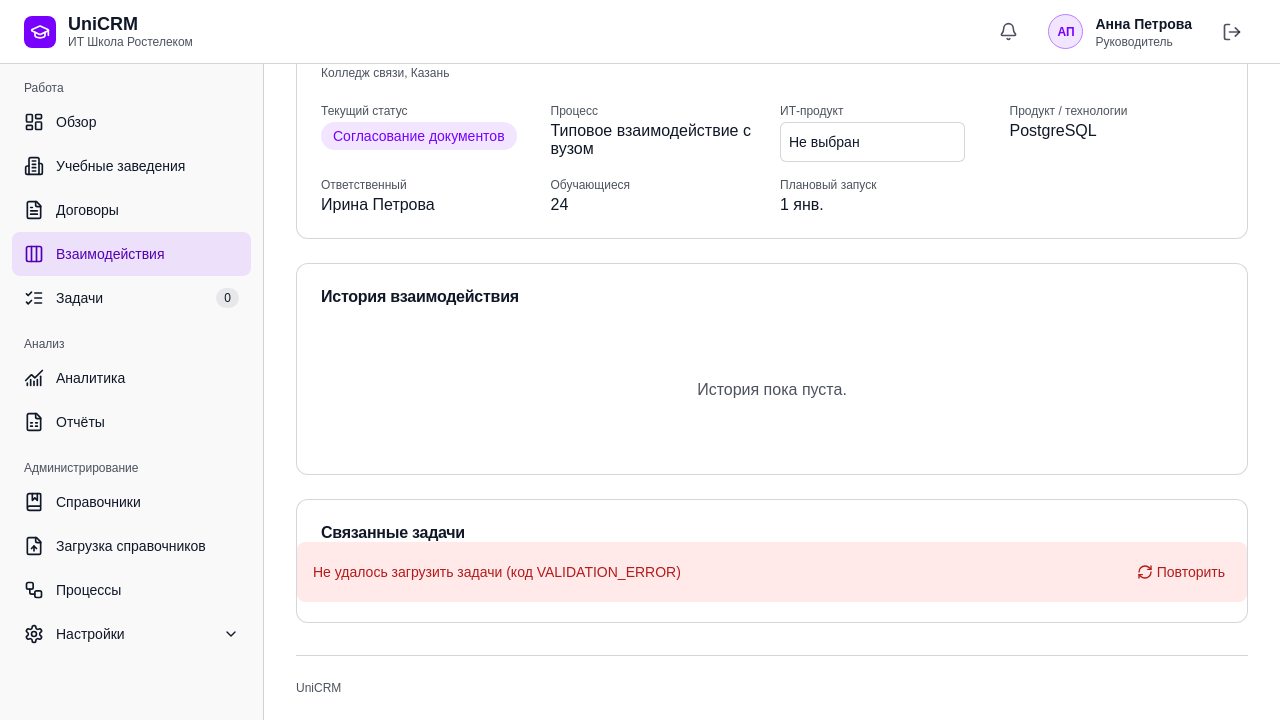
Test: interaction detail: task plan › shows an error with retry when the launch-tasks request fails, and a loading message while pending
(page scrolled)
Check: the message shows "Не удалось загрузить задачи", box [313,564,681,580]
Click the button "Повторить". click: (1181, 572)
box: [1131,554,1231,590]
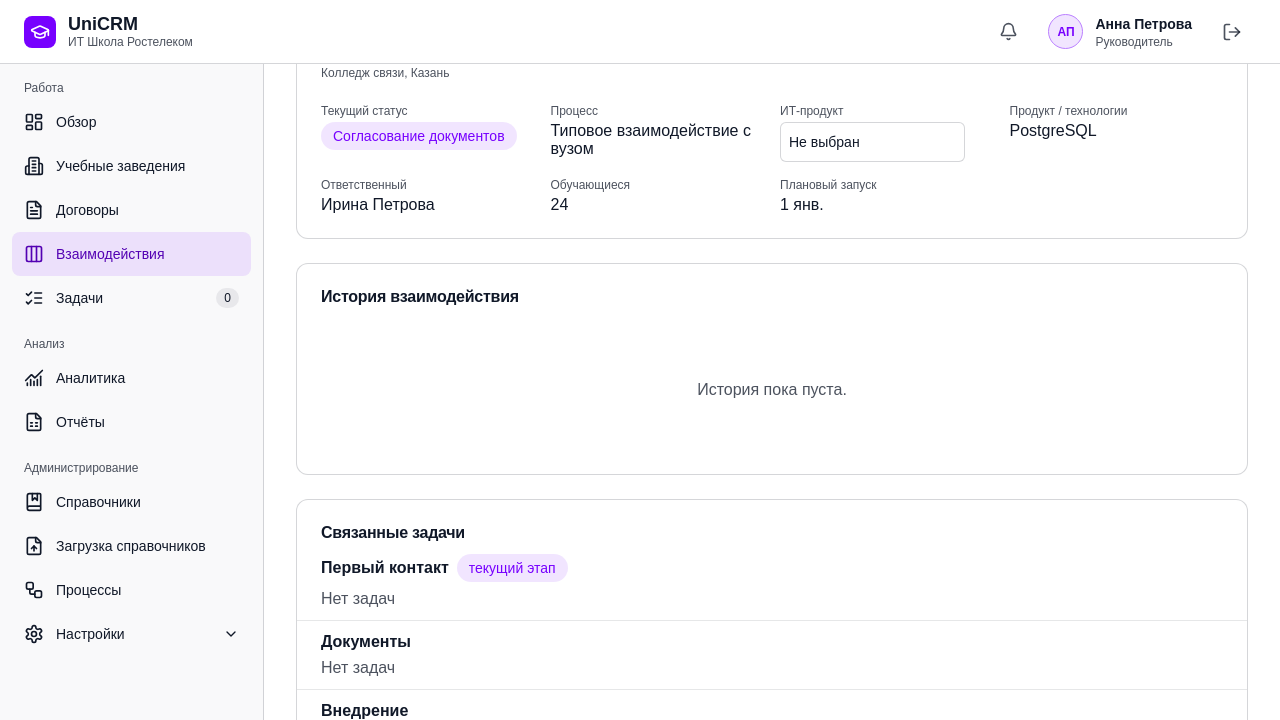
Check: the message "Не удалось загрузить задачи (код VALIDATION_ERROR) Повторить" is gone
